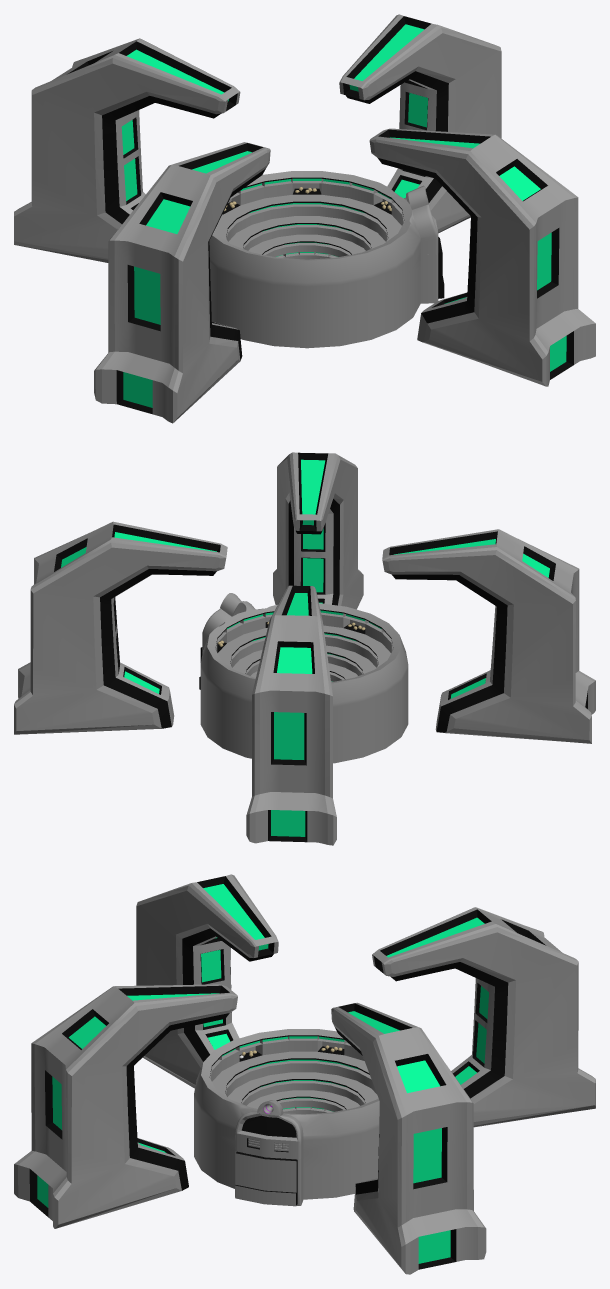
Rendered from Generator.fbx.
3 views of the same model, one above another, from view 1: azimuth 30°, elevation 25°; view 2: azimuth 150°, elevation 25°; view 3: azimuth 270°, elevation 25° (orthographic). The views are drawn at different scales.
Visible parts, largest first — view 1: Cylinder001, Line001, Line003, Line002, Line004, Object018, Object012, Object, Object016, Object014, Object006, Object002 (+3 smaller); view 2: Line003, Line004, Cylinder001, Line002, Line001, Object014, Object016, Object004, Object018, Object006, Object012, Object (+2 smaller); view 3: Cylinder001, Line001, Line002, Line004, Line003, Object018, Object012, Object002, Object016, Object014, Object, Object006 (+4 smaller).
Boxes of the visible parts, x1,y1,x2,y2 form: Cylinder001: (209, 171, 438, 348); Line001: (369, 128, 595, 386); Line003: (94, 142, 270, 423); Line002: (14, 38, 240, 262); Line004: (339, 14, 501, 233); Object018: (378, 129, 573, 379); Object012: (67, 41, 237, 223); Object: (123, 151, 251, 407); Object016: (116, 143, 265, 414); Object014: (343, 16, 448, 202); Object006: (390, 137, 566, 371); Object002: (349, 24, 427, 198); Line003: (382, 529, 595, 743); Line004: (14, 521, 227, 734); Cylinder001: (200, 593, 408, 763); Line002: (246, 585, 336, 845); Line001: (273, 452, 363, 609); Object014: (54, 524, 220, 728); Object016: (389, 531, 587, 732); Object004: (271, 593, 312, 836); Object018: (288, 452, 339, 605); Object006: (301, 459, 325, 603); Object012: (268, 585, 314, 842); Object: (393, 539, 549, 698); Cylinder001: (194, 1029, 379, 1206); Line001: (14, 984, 237, 1228); Line002: (372, 907, 595, 1127); Line004: (331, 1002, 486, 1274); Line003: (136, 874, 278, 1088); Object018: (29, 985, 229, 1216); Object012: (373, 909, 545, 1098); Object002: (348, 1011, 450, 1263); Object016: (182, 876, 274, 1061); Object014: (335, 1003, 456, 1269); Object: (201, 884, 268, 1049); Object006: (37, 993, 219, 1207).
Bounding box in the file's own units: 231 × 86.99 × 231.
